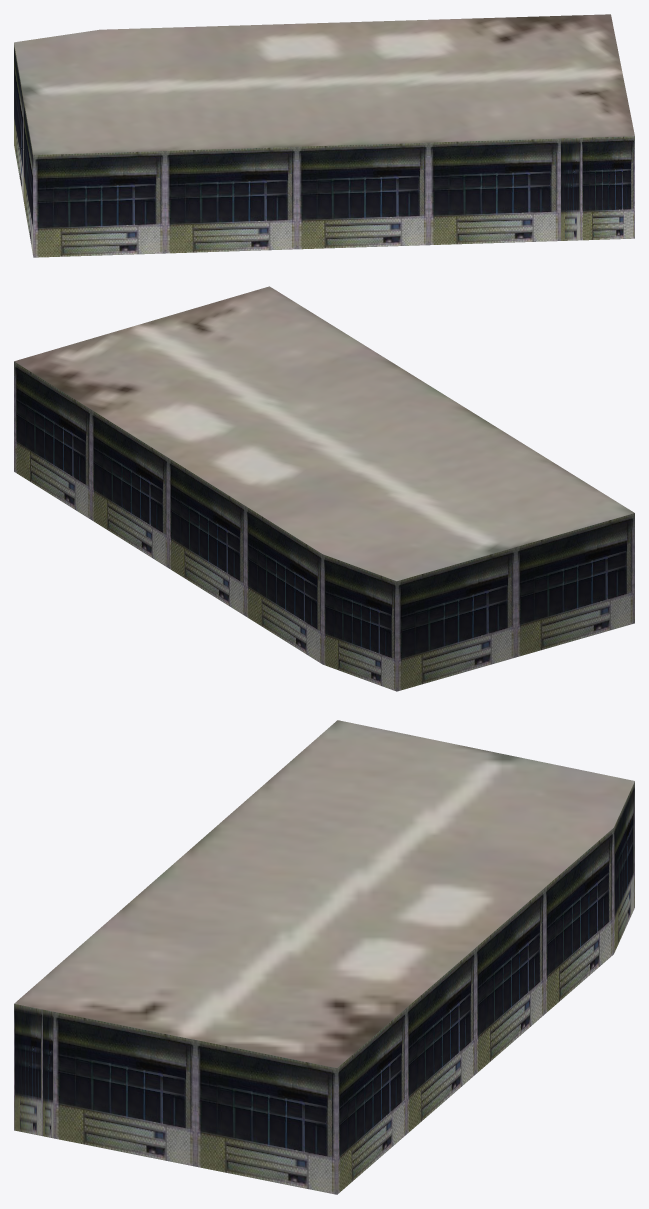
File: T_1T13E4NTWV.dae
3 renders of one model, top to bottom at view 1: azimuth 30°, elevation 25°; view 2: azimuth 150°, elevation 25°; view 3: azimuth 270°, elevation 25°, orthographic. The views are drawn at different scales.
Visible parts, largest first — view 1: SketchUp (×5); view 2: SketchUp (×4); view 3: SketchUp (×6).
Boxes of the visible parts, x1=… form: SketchUp (×5): x1=14, y1=14, x2=634, y2=257; SketchUp (×4): x1=14, y1=286, x2=634, y2=691; SketchUp (×6): x1=14, y1=720, x2=634, y2=1194.
Bounding box in the file's own units: 27.51 × 20.74 × 4.67.
2 materials, 2 textured.
